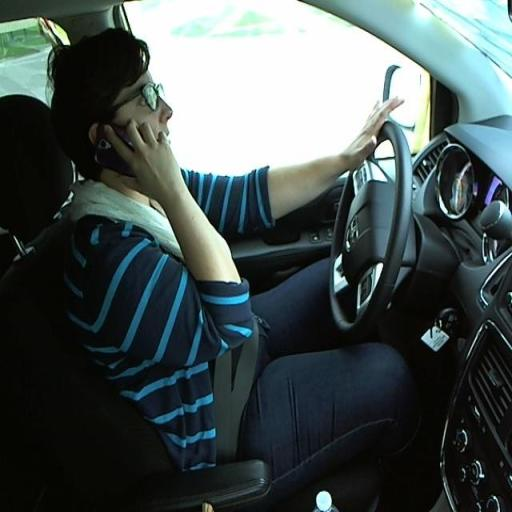talking_phone: (69, 41, 416, 369)
